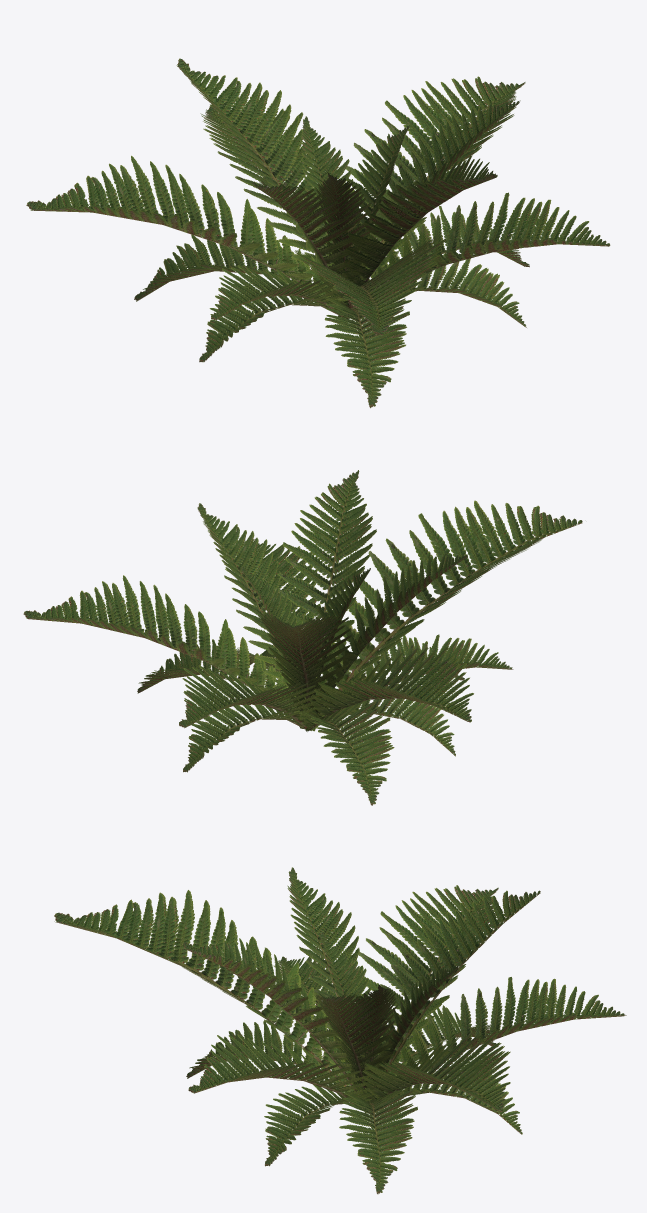
Rendered from fern.glb.
3 renders of one model, top to bottom at view 1: azimuth 30°, elevation 25°; view 2: azimuth 150°, elevation 25°; view 3: azimuth 270°, elevation 25°, orthographic. The views are drawn at different scales.
Bounding box in the file's own units: 356 × 146 × 371.
1 material, 1 textured.
